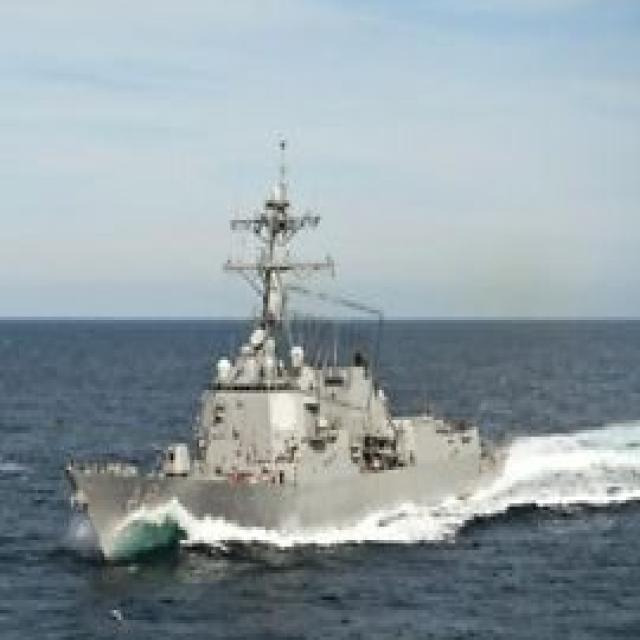navalvessels: (82, 162, 471, 570)
